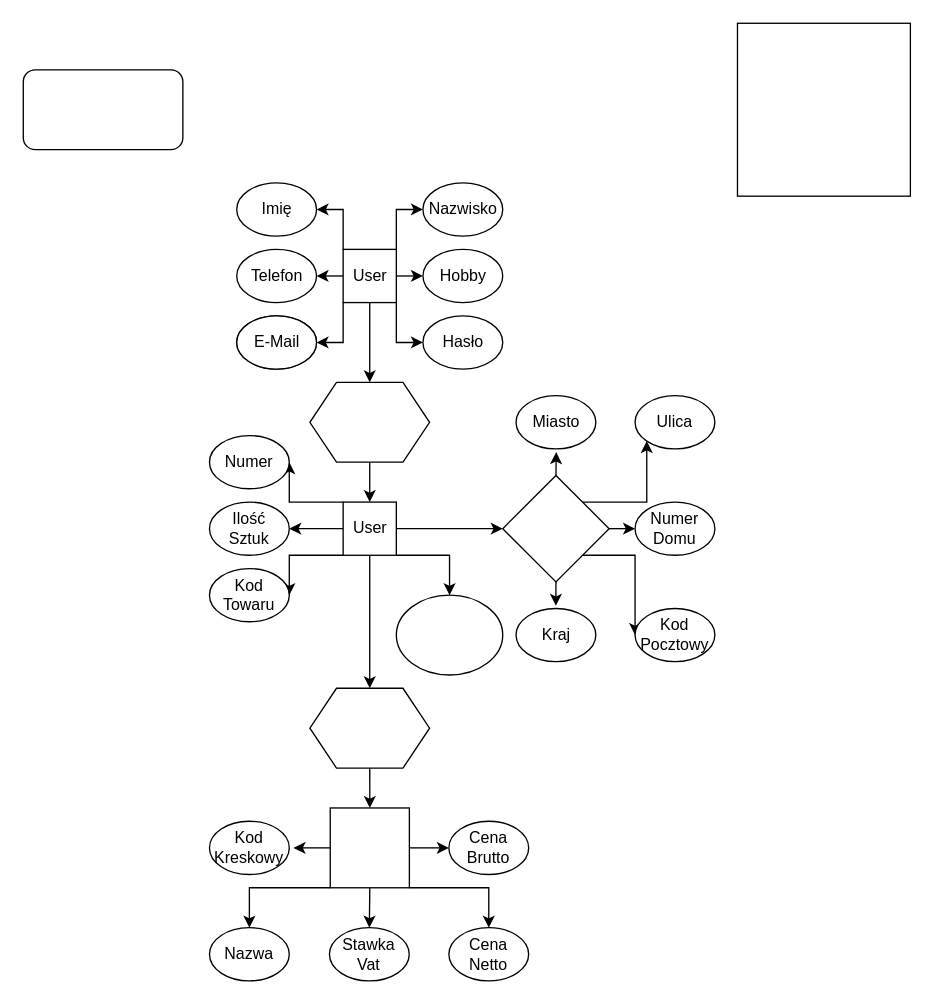
The diagram is 934 pixels wide and 1004 high, and some of its shapes have lost their labels. The shapes that lost their labels are listed below. From the top down, each one's centre as x and y in pixels, then its label:
[102,109]: Zadanie 1
[823,109]: Maksymilian Woś 3GI1T
[369,421]: Składanie Zamówienia
[555,528]: Adres Dostawy
[449,634]: Wartość Zamówienia
[369,727]: Dotyczy
[369,847]: Produkt
